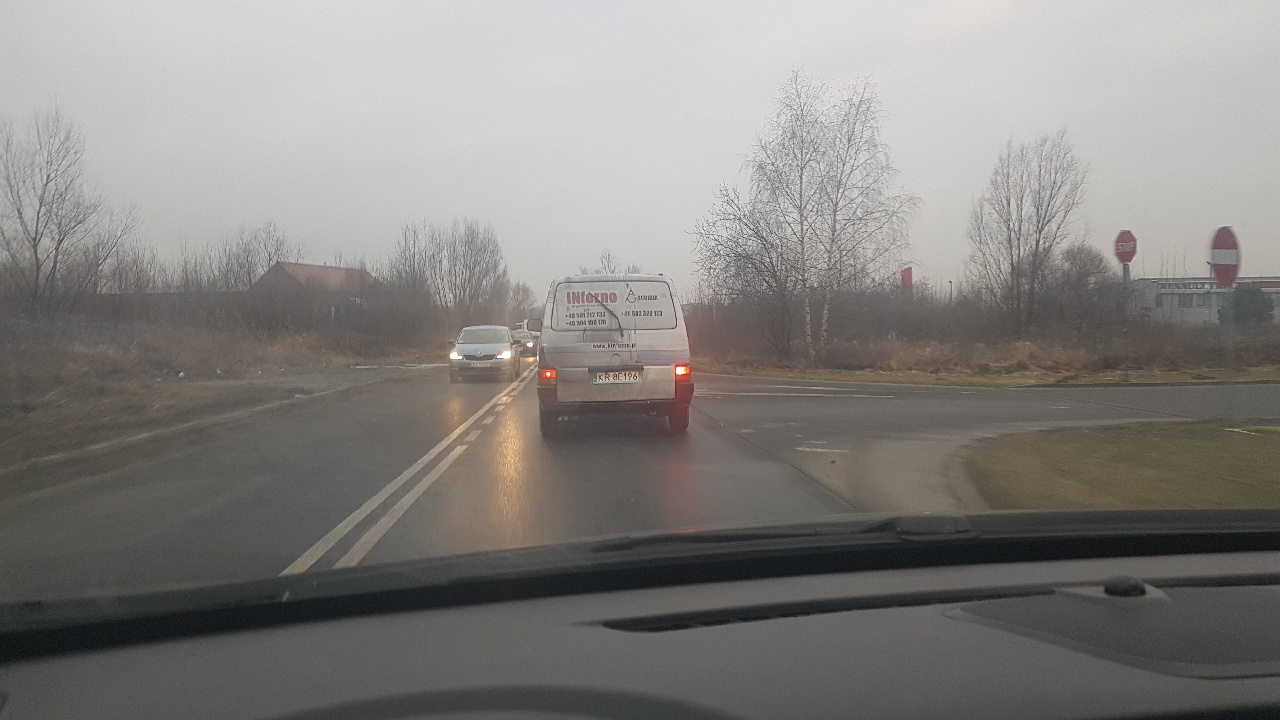B2: (1210, 227, 1240, 289)
B20: (1115, 230, 1137, 265)
